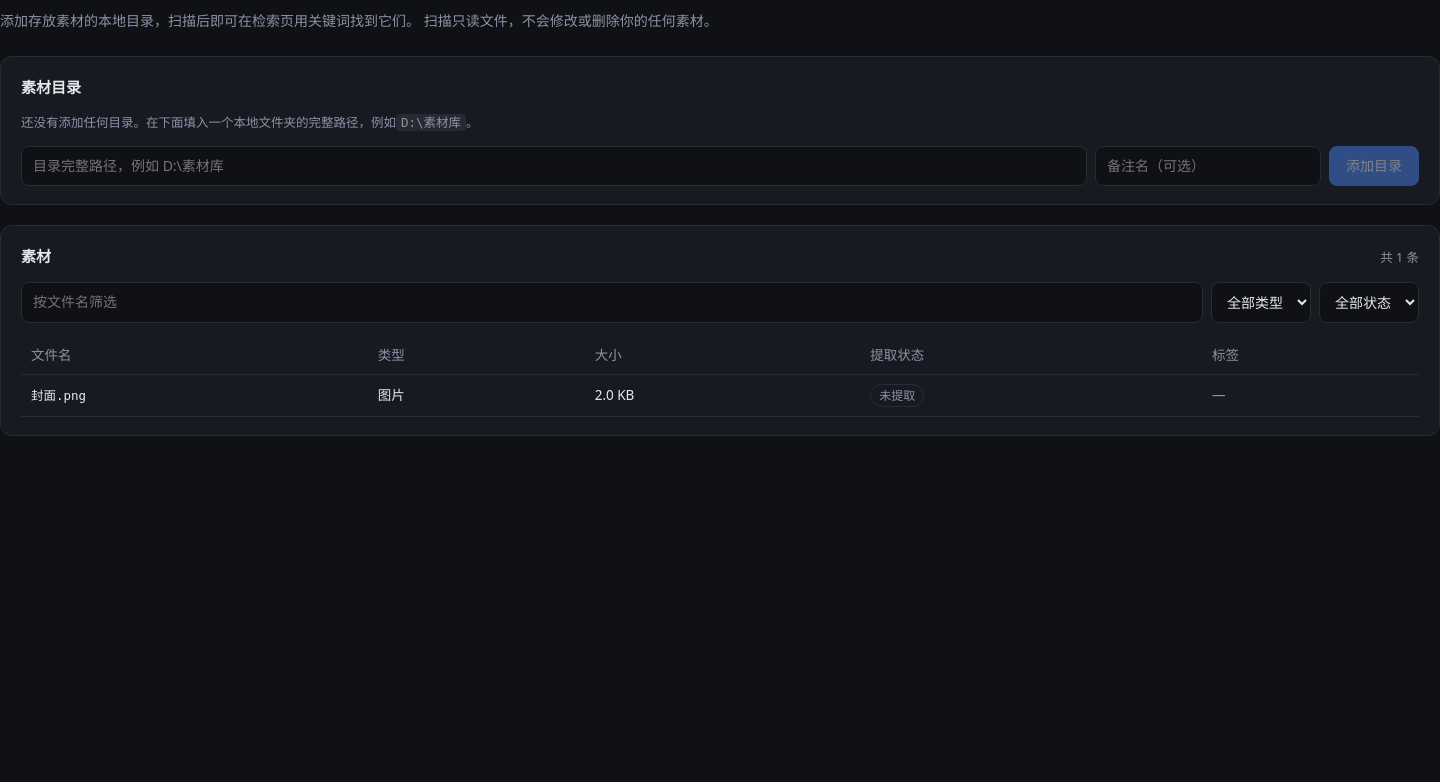
Test: 素材库页面 › 提取入口 › 图片：按钮禁用并说明 OCR 暂不提供
The width and height of the screenshot is (1440, 782).
Click the text "封面.png" at (194, 396), box [21,375,368,417]
(page scrolled)
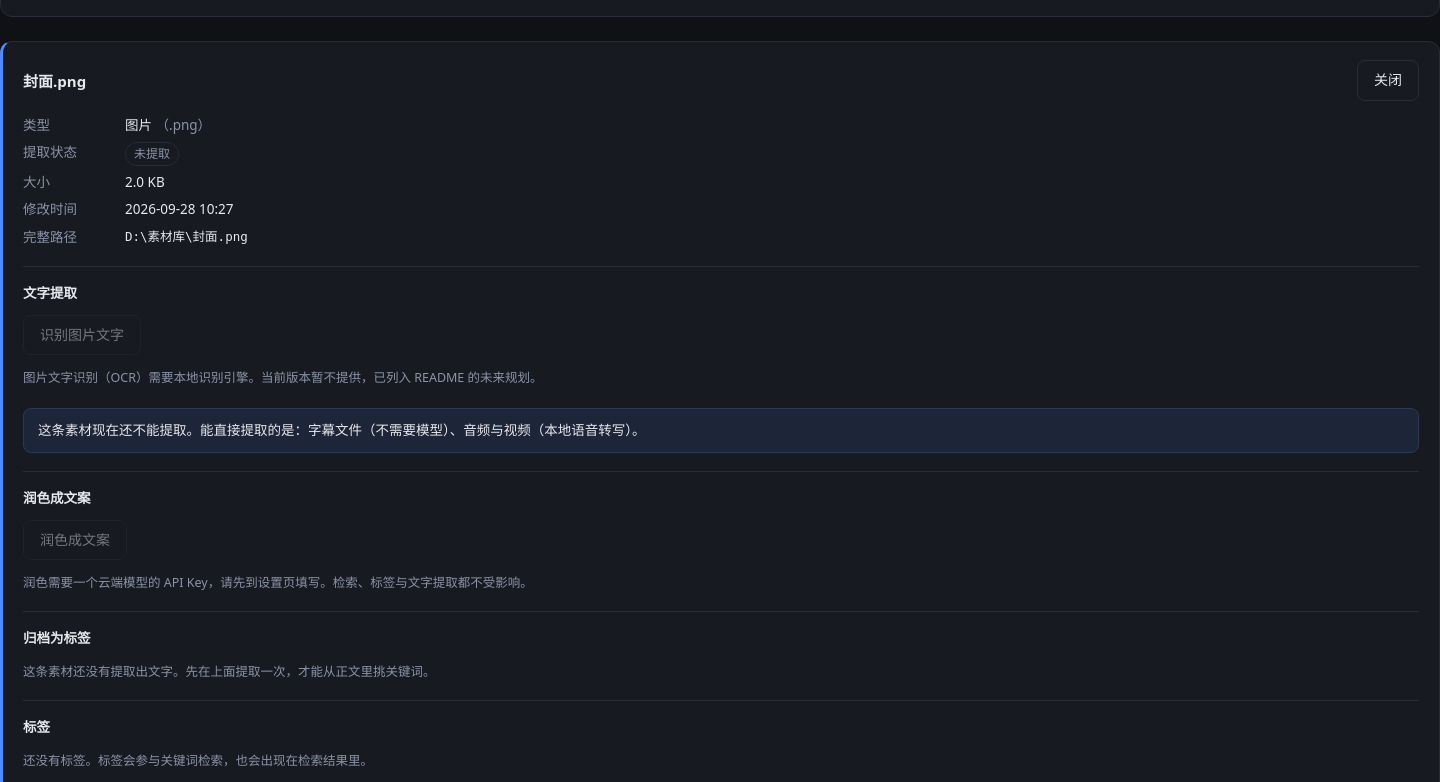
Result: the button "识别图片文字" is disabled at [23,315,141,355]
Result: the text "图片文字识别（OCR）需要本地识别引擎。当前版本暂不提供，已列入 README 的未来规划。" is shown at [23,369,543,386]
